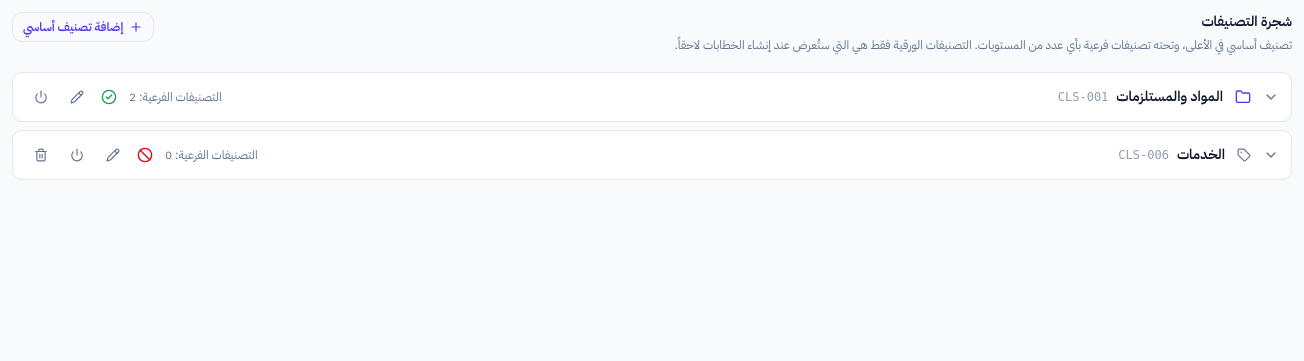
Classifications — tree rendering › reveals the groups of a category without revealing its items
Click the button "المواد والمستلزمات CLS-001 التصنيفات الفرعية: 2": (1170, 96) [101,86,1279,106]
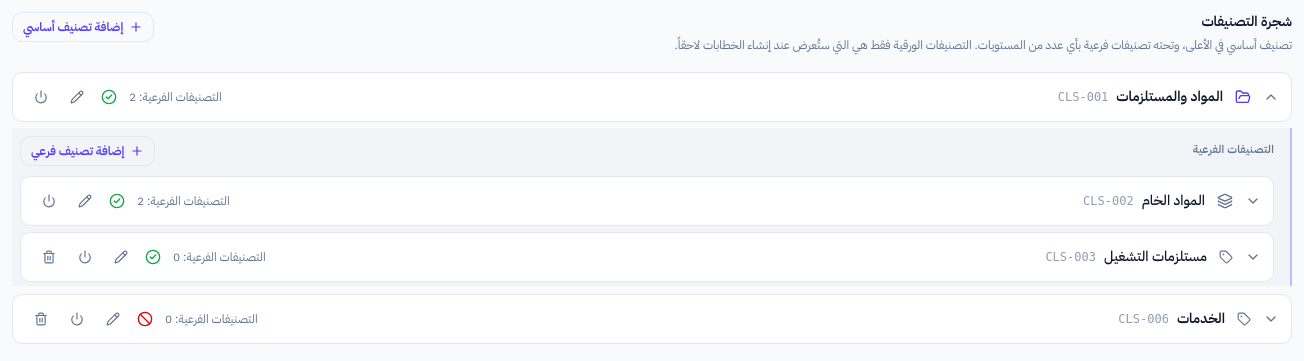
Check: the text "المواد الخام" is shown, box [1142,190,1205,210]
Check: the text "CLS-002" is shown, box [1083,192,1134,208]
Check: the text "مستلزمات التشغيل" is shown, box [1104,246,1207,266]
